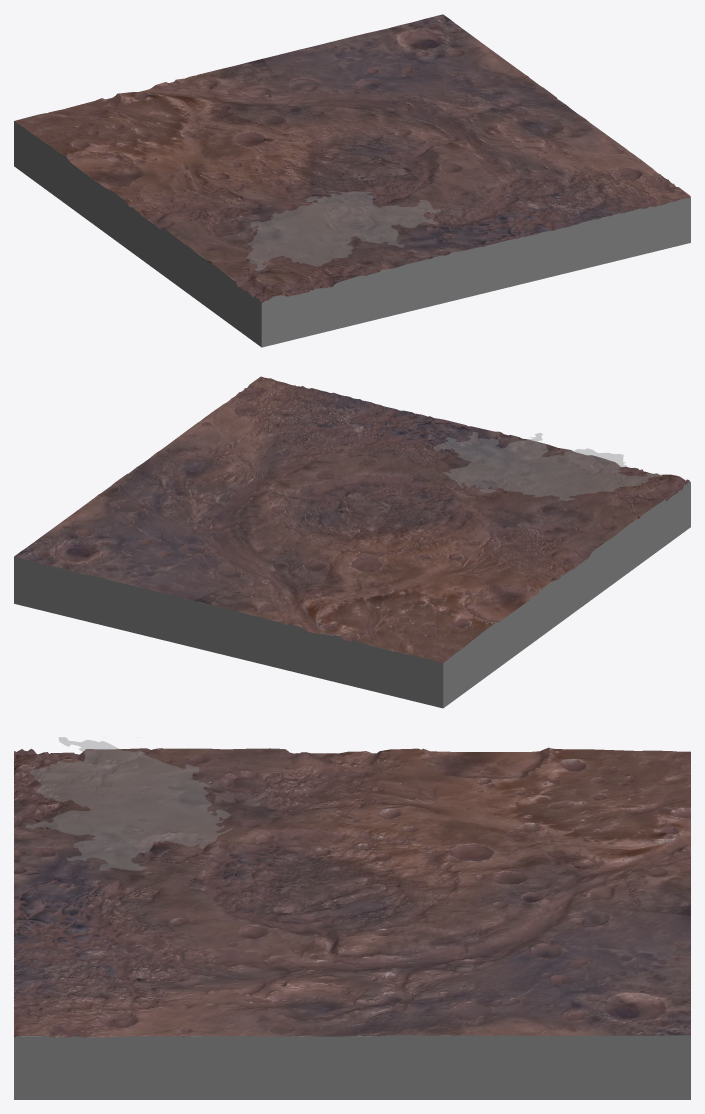
File: zone1_ares.glb
The picture shows the model from 3 angles, top to bottom: view 1: azimuth 30°, elevation 25°; view 2: azimuth 150°, elevation 25°; view 3: azimuth 270°, elevation 25°; orthographic projection. The views are drawn at different scales.
Visible parts, largest first — view 1: LP_1_0, LP_2_0, Comparison_3_0; view 2: LP_1_0, LP_2_0, Comparison_3_0; view 3: LP_1_0, LP_2_0, Comparison_3_0.
Boxes of the visible parts, x1,y1,x2,y2 form: LP_1_0: (14,14,690,302); LP_2_0: (14,15,690,347); Comparison_3_0: (246,191,441,270); LP_1_0: (14,376,690,662); LP_2_0: (14,391,690,708); Comparison_3_0: (433,432,662,501); LP_1_0: (14,747,690,1037); LP_2_0: (14,748,690,1099); Comparison_3_0: (25,737,232,870).
Size of the model in its own units: 7497 by 1027 by 7495.
Materials: 3 (2 with a texture image).
